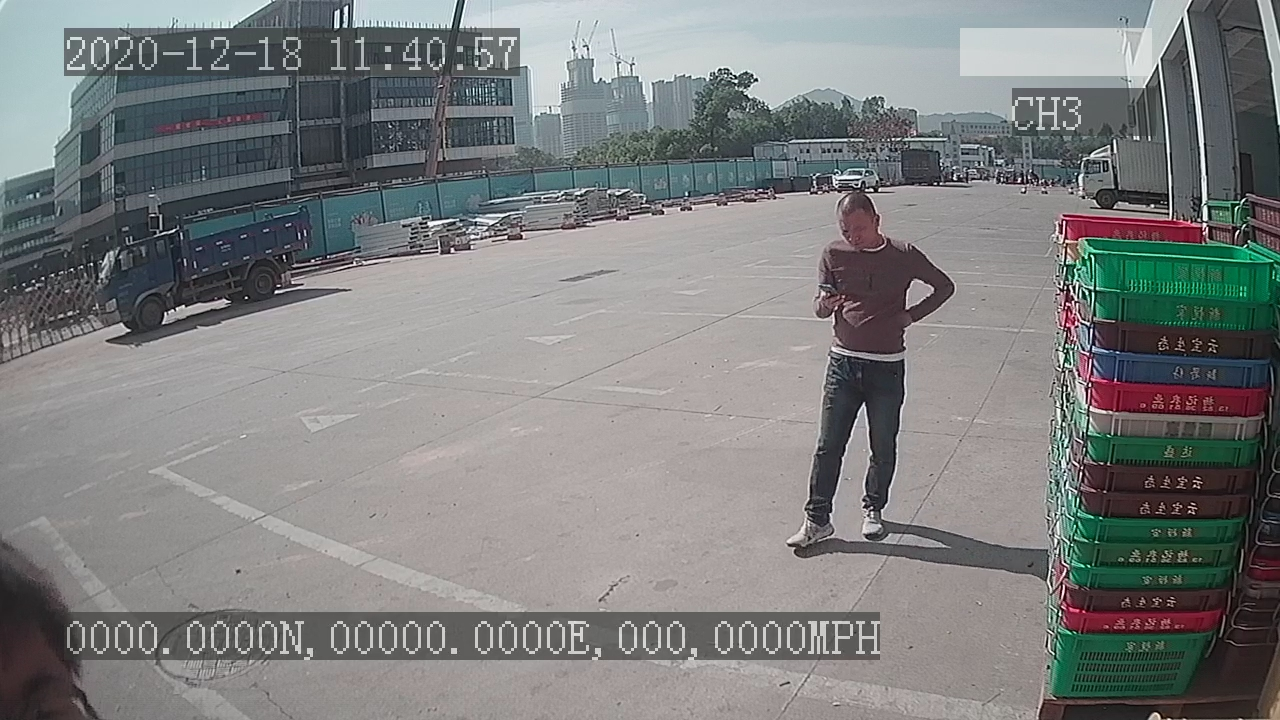person: (786, 193, 955, 553)
